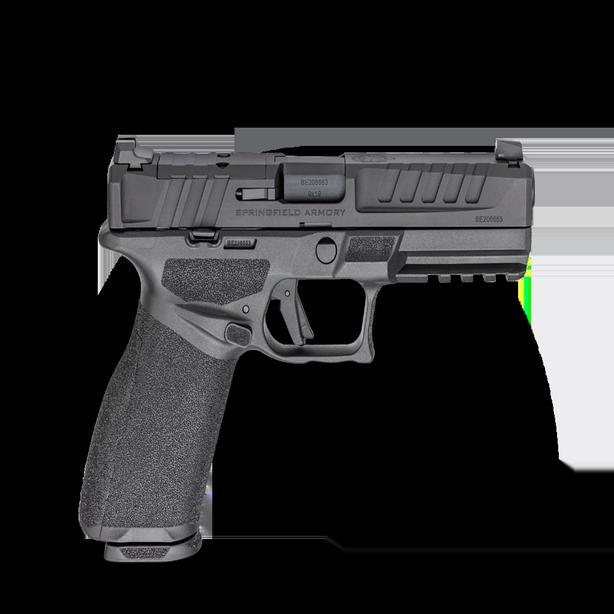Firearm: (58, 72, 543, 575)
